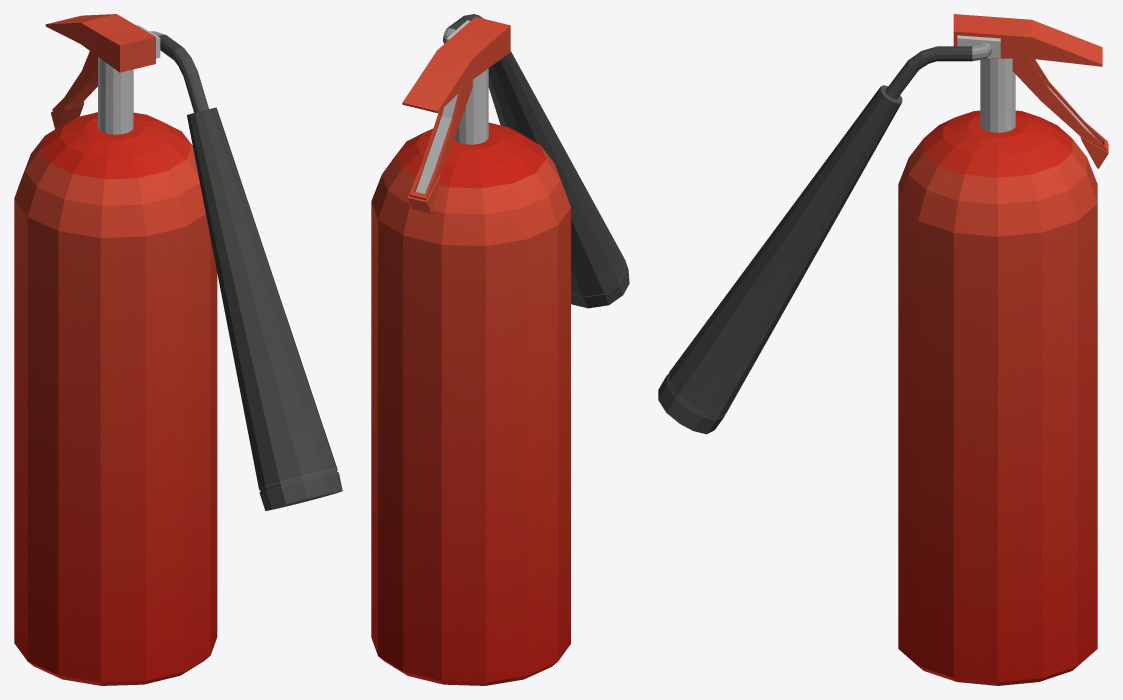
Rendered from fire_extinguisher_1.glb.
3 views of the same model, side by side, from view 1: azimuth 30°, elevation 25°; view 2: azimuth 150°, elevation 25°; view 3: azimuth 270°, elevation 25° (orthographic). The views are drawn at different scales.
Parts seen in each view (by area): view 1: flask, nozzle, head, handle; view 2: flask, nozzle, head, handle; view 3: flask, nozzle, head, handle.
Boxes of the visible parts, x1=… form: flask: x1=14, y1=57, x2=217, y2=685; nozzle: x1=150, y1=31, x2=342, y2=510; head: x1=45, y1=14, x2=160, y2=72; handle: x1=51, y1=51, x2=97, y2=129; flask: x1=371, y1=68, x2=570, y2=685; nozzle: x1=443, y1=14, x2=629, y2=308; head: x1=402, y1=17, x2=510, y2=113; handle: x1=407, y1=80, x2=472, y2=213; flask: x1=898, y1=58, x2=1097, y2=685; nozzle: x1=658, y1=43, x2=992, y2=434; head: x1=953, y1=14, x2=1102, y2=66; handle: x1=1012, y1=58, x2=1108, y2=168.
Size of the model in its own units: 0.1554 by 0.5228 by 0.3426.
1 material, 1 textured.
